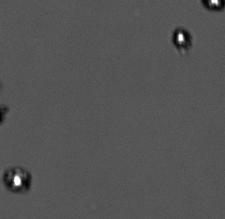Living Cell: (4, 169, 31, 192), (173, 27, 191, 49), (201, 1, 225, 12)
